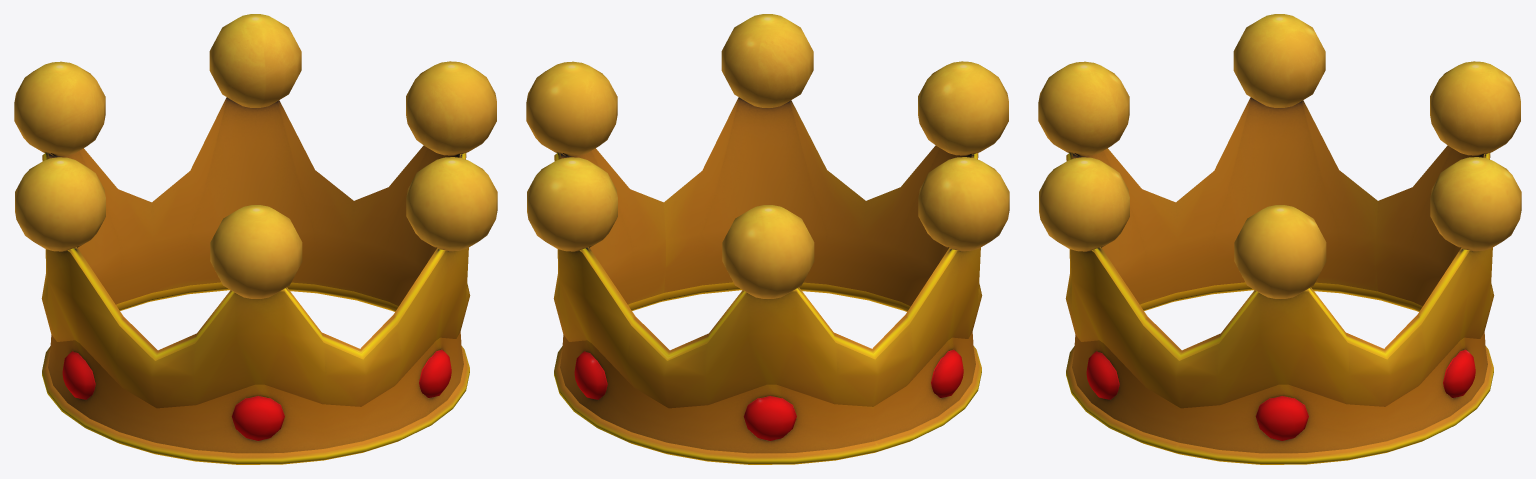
File: Crown.fbx
3 renders of one model, left to right at view 1: azimuth 30°, elevation 25°; view 2: azimuth 150°, elevation 25°; view 3: azimuth 270°, elevation 25°, orthographic.
Visible parts, largest first — view 1: Crown; view 2: Crown; view 3: Crown.
Boxes of the visible parts, x1,y1,x2,y2 form: Crown: (14,14,497,464); Crown: (526,14,1009,464); Crown: (1038,14,1521,464).
Size of the model in its own units: 36.94 by 19.83 by 32.93.
1 material, 1 textured.
